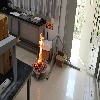fire: (35, 33, 44, 67)
